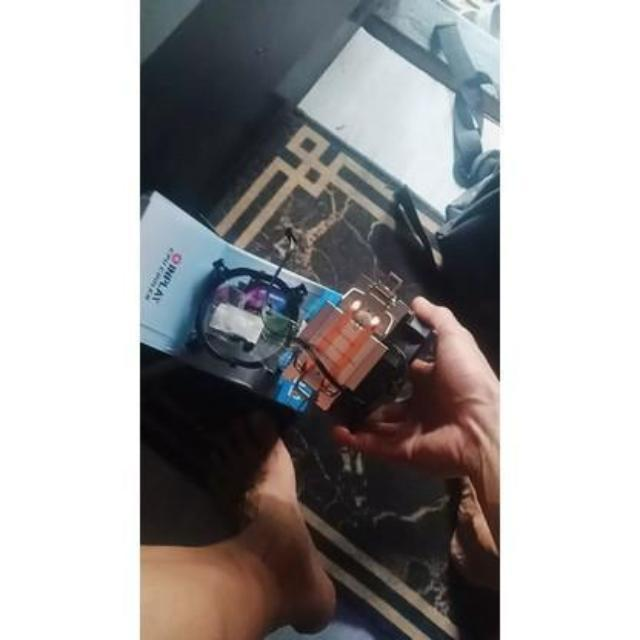CPU_Fan: (282, 276, 440, 436)
